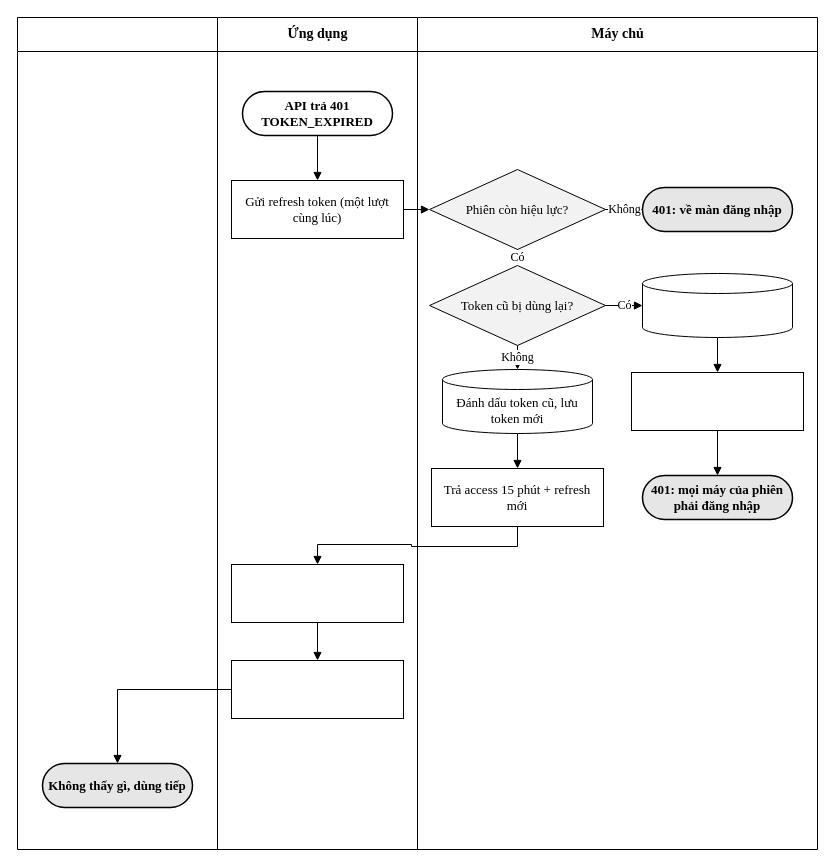
Image size: 835x867. Some labels were removed from this diagram. The shapes that lost their labels are listed below. From the top down, each one's box as (x1, y1, x2, y2) in pixels, then its label:
(642, 272, 792, 338): Thu hồi cả phiên, lý do REUSE
(630, 372, 804, 430): Email + push cảnh báo (A3)
(16, 16, 218, 850): Người dùng
(230, 564, 404, 622): Lưu cả hai vào SecureStore
(230, 660, 404, 718): Gửi lại các yêu cầu đang chờ
